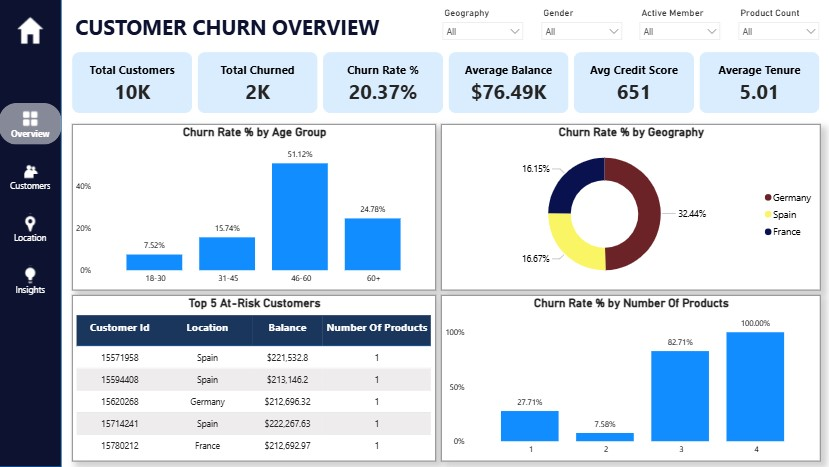

The page's visual inventory and layout, read from the dashboard file:
{"tool":"powerbi","page":{"name":"Overview","canvas":[1280,720],"ordinal":0},"visuals":[{"type":"textbox","box":[112,16,512,64],"z":0},{"type":"shape","box":[0,0,96,720],"z":1000},{"type":"slicer","fields":{"Values":["customer_churn.Geography"]},"box":[672,8,144,80],"z":2000},{"type":"slicer","fields":{"Values":["customer_churn.Gender"]},"box":[824,8,144,80],"z":3000},{"type":"slicer","fields":{"Values":["customer_churn.IsActiveMember"]},"box":[976,8,144,80],"z":4000},{"type":"slicer","fields":{"Values":["customer_churn.NumOfProducts"]},"box":[1128,8,144,80],"z":5000},{"type":"actionButton","box":[0,160,96,64],"z":6000},{"type":"actionButton","box":[0,240,96,64],"z":7000},{"type":"actionButton","box":[0,320,96,64],"z":8000},{"type":"actionButton","box":[0,400,96,64],"z":9000},{"type":"cardVisual","fields":{"Data":["customer_churn.Total Customers","customer_churn.Total Churned","customer_churn.Churn Rate %","customer_churn.Avg_Balance","Avg(customer_churn.CreditScore)","Avg(customer_churn.Tenure)"]},"box":[96,64,1184,128],"z":10000},{"type":"clusteredColumnChart","fields":{"Category":["customer_churn.Age Group"],"Y":["customer_churn.Churn Rate %"]},"box":[112,192,560,256],"z":11000},{"type":"donutChart","fields":{"Category":["customer_churn.Geography"],"Y":["customer_churn.Churn Rate %"]},"box":[680,192,584,256],"z":12000},{"type":"tableEx","title":"Top 5 At-Risk Customers","fields":{"Values":["customer_churn.CustomerId","customer_churn.Geography","customer_churn.Balance","customer_churn.NumOfProducts"]},"box":[112,456,560,256],"z":13000},{"type":"clusteredColumnChart","title":"Churn Rate % by Number Of Products","fields":{"Y":["customer_churn.Churn Rate %"],"Category":["customer_churn.NumOfProducts"]},"box":[680,456,584,256],"z":14000},{"type":"actionButton","box":[0,16,96,64],"z":15000}]}

Visuals, with their boxes in screenshot pixels (x1, y1, x2, y2), scaled from the page's 1280x720 canvas onto the 829x467 screenshot:
textbox: {"x1": 73, "y1": 10, "x2": 404, "y2": 52}
shape: {"x1": 0, "y1": 0, "x2": 62, "y2": 466}
slicer - customer_churn.Geography: {"x1": 435, "y1": 5, "x2": 528, "y2": 57}
slicer - customer_churn.Gender: {"x1": 534, "y1": 5, "x2": 627, "y2": 57}
slicer - customer_churn.IsActiveMember: {"x1": 632, "y1": 5, "x2": 725, "y2": 57}
slicer - customer_churn.NumOfProducts: {"x1": 731, "y1": 5, "x2": 824, "y2": 57}
actionButton: {"x1": 0, "y1": 104, "x2": 62, "y2": 145}
actionButton: {"x1": 0, "y1": 156, "x2": 62, "y2": 197}
actionButton: {"x1": 0, "y1": 208, "x2": 62, "y2": 249}
actionButton: {"x1": 0, "y1": 259, "x2": 62, "y2": 301}
cardVisual - customer_churn.Total Customers x customer_churn.Total Churned: {"x1": 62, "y1": 42, "x2": 828, "y2": 125}
clusteredColumnChart - customer_churn.Age Group x customer_churn.Churn Rate %: {"x1": 73, "y1": 125, "x2": 435, "y2": 291}
donutChart - customer_churn.Geography x customer_churn.Churn Rate %: {"x1": 440, "y1": 125, "x2": 819, "y2": 291}
"Top 5 At-Risk Customers" tableEx: {"x1": 73, "y1": 296, "x2": 435, "y2": 462}
"Churn Rate % by Number Of Products" clusteredColumnChart: {"x1": 440, "y1": 296, "x2": 819, "y2": 462}
actionButton: {"x1": 0, "y1": 10, "x2": 62, "y2": 52}
